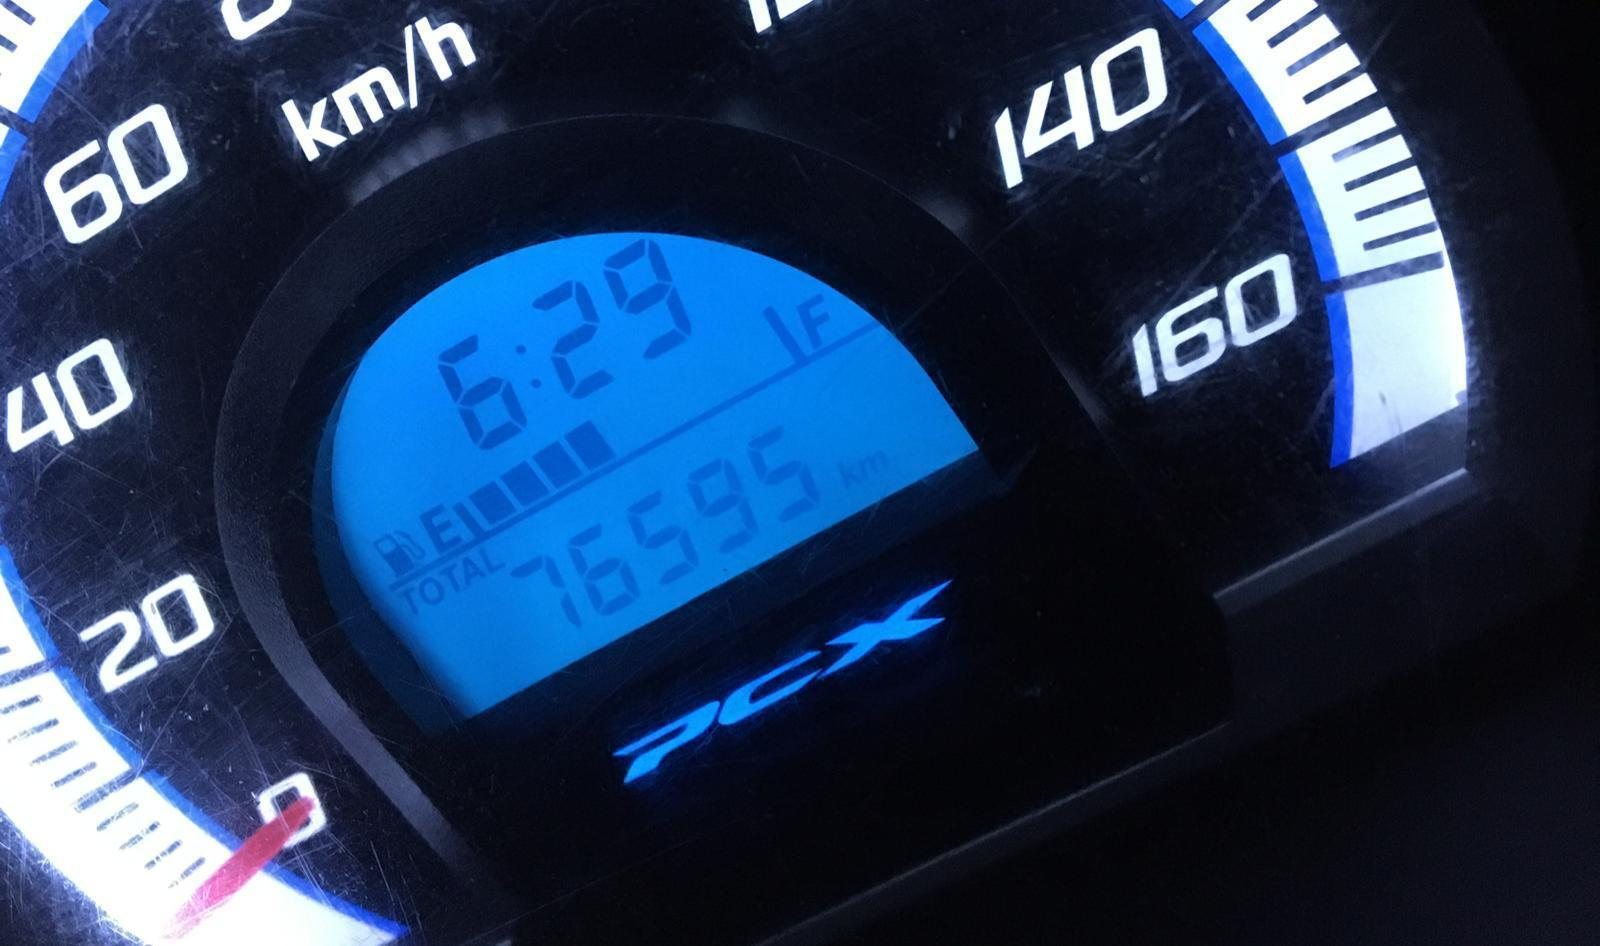2: (531, 277, 617, 403)
5: (622, 487, 705, 586), (745, 423, 828, 521)
6: (433, 327, 528, 453), (565, 520, 643, 618)
7: (510, 553, 584, 634)
9: (600, 233, 701, 365), (685, 453, 765, 555)
X: (793, 289, 839, 350), (417, 502, 467, 552), (508, 336, 546, 395), (860, 447, 892, 480), (476, 546, 506, 575), (418, 577, 447, 606), (437, 562, 464, 594), (835, 458, 861, 491), (459, 556, 484, 587), (396, 587, 421, 616)
odometer: (315, 217, 990, 717)
